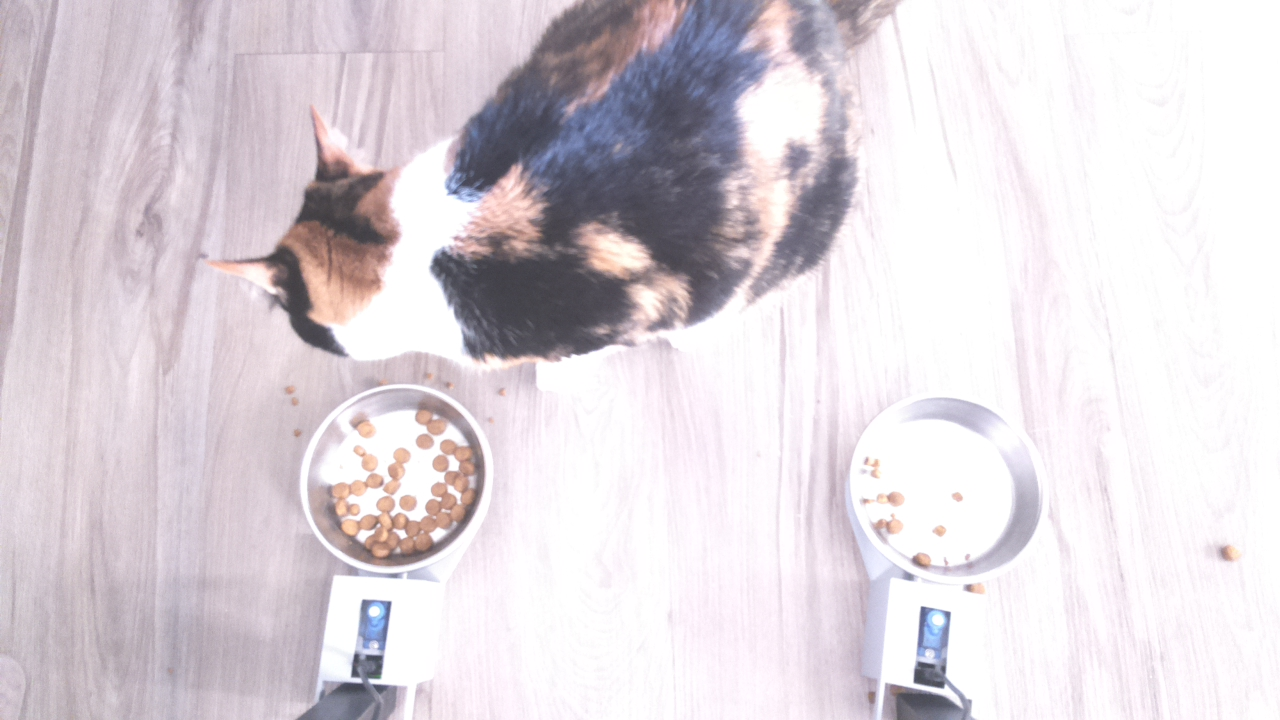bella: (195, 99, 449, 375)
open_bowl: (845, 386, 1054, 587), (291, 379, 501, 579)
